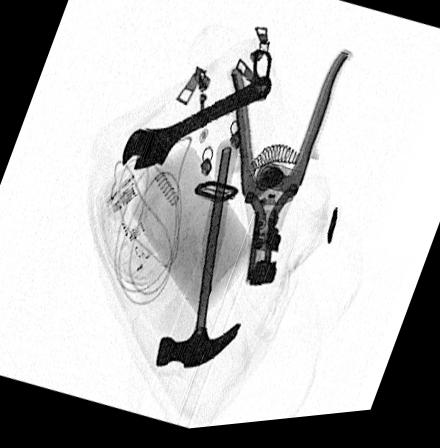Hammer: (157, 147, 239, 372)
Pliers: (228, 50, 354, 293)
Wrench: (123, 77, 273, 176)
